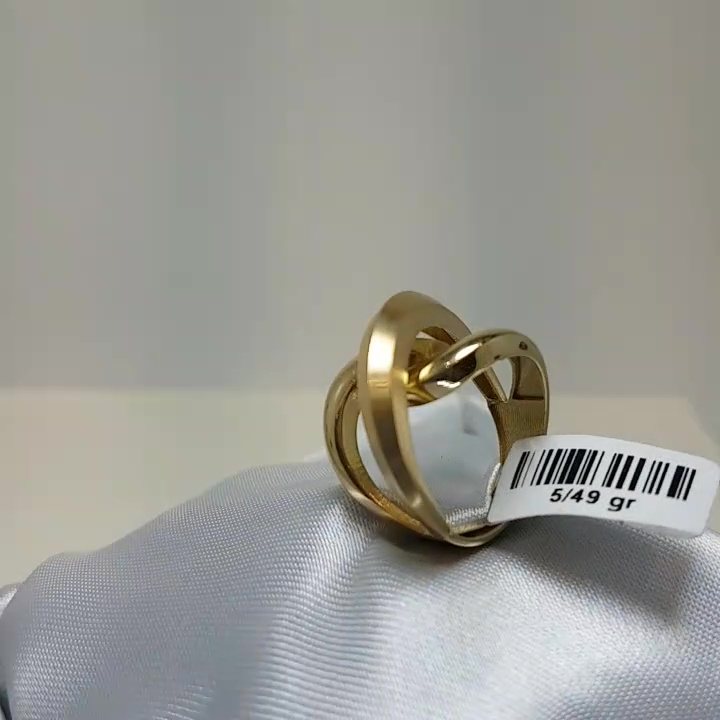Ring 3: (281, 270, 566, 562)
